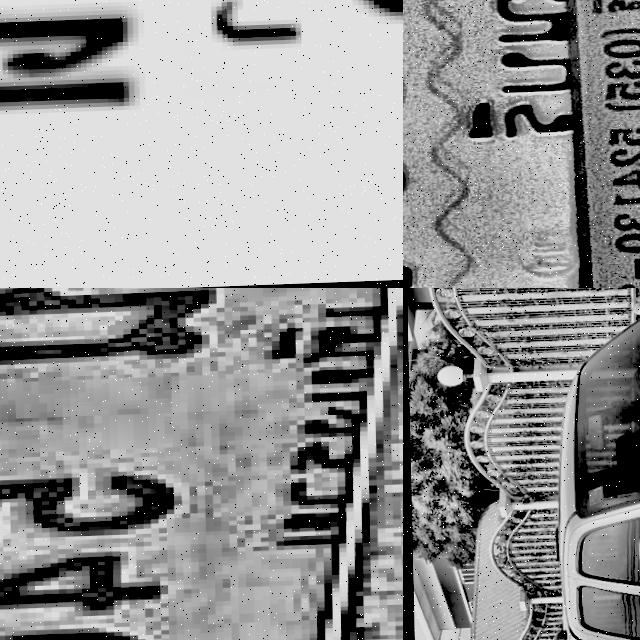license-plate: (0, 288, 403, 640), (0, 0, 403, 288), (403, 0, 640, 288)
